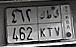2: (25, 8, 33, 41)
4: (11, 10, 18, 41)
6: (18, 9, 25, 42)
K: (38, 10, 46, 38)
T: (46, 9, 53, 38)
V: (53, 9, 61, 38)
